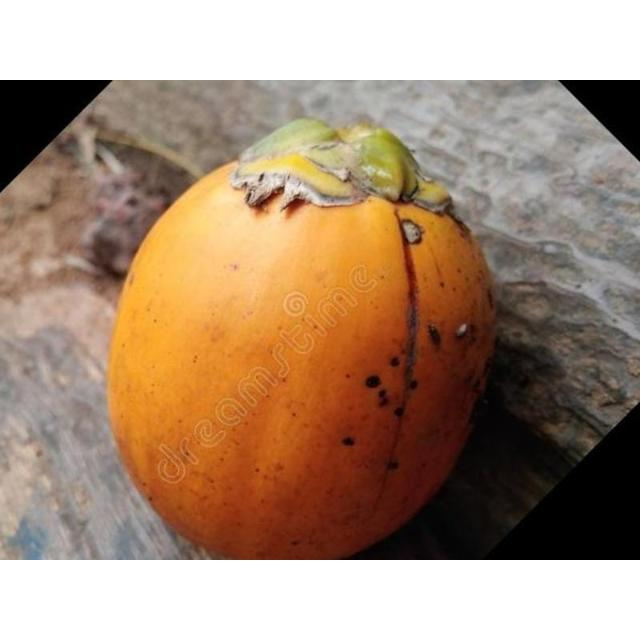good: (105, 118, 499, 559)
